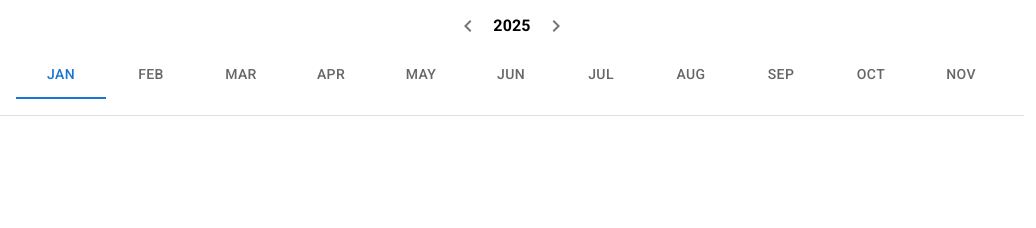
DashboardHeader › clicking the year label opens the year dropdown menu
Step 1. Click the text "2025" → coordinates (512, 26), box 493,16 -> 531,35
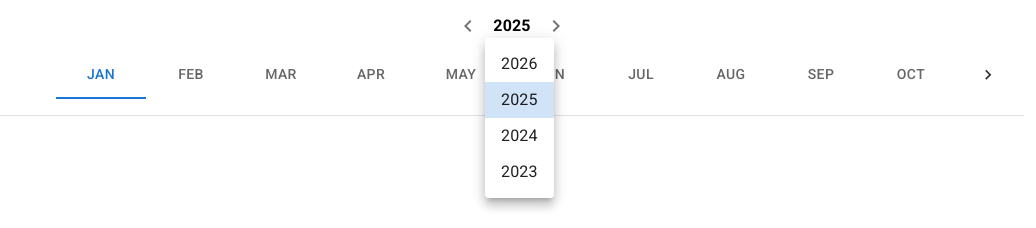
Expected: the menu item "2026" is shown, 501,54 -> 538,73
